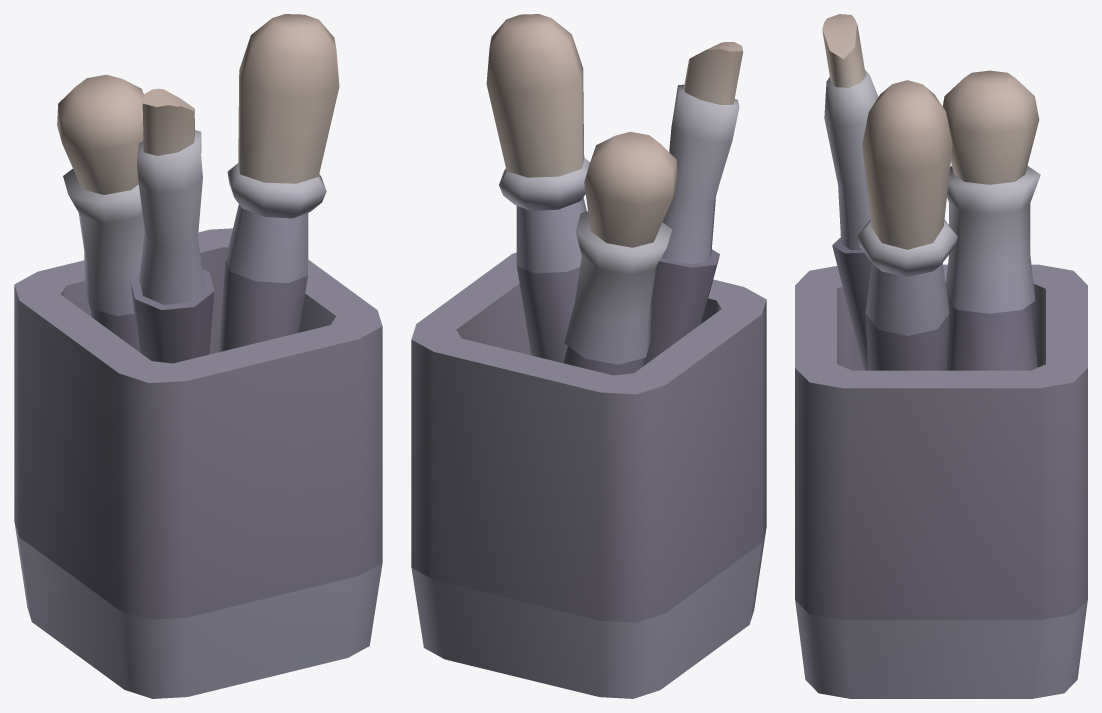
Rendered from makeup-display-cup-brushes.glb.
3 renders of one model, left to right at view 1: azimuth 30°, elevation 25°; view 2: azimuth 150°, elevation 25°; view 3: azimuth 270°, elevation 25°, orthographic. The views are drawn at different scales.
Parts seen in each view (by area): view 1: makeup-display-cup-brushes; view 2: makeup-display-cup-brushes; view 3: makeup-display-cup-brushes.
Boxes of the visible parts, x1,y1,x2,y2 form: makeup-display-cup-brushes: (14,14,382,698); makeup-display-cup-brushes: (411,14,766,698); makeup-display-cup-brushes: (795,14,1087,698).
Size of the model in its own units: 0.183 by 0.406 by 0.183.
